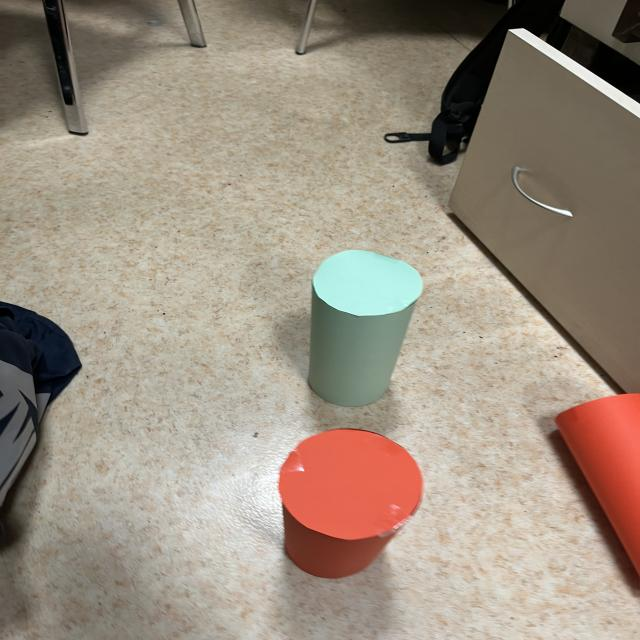meta: (308, 250, 423, 406)
przeszkoda: (279, 429, 423, 578), (555, 394, 640, 575)
